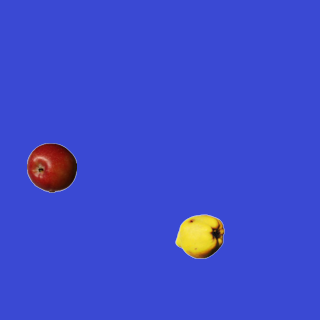Apple Braeburn: (26, 142, 76, 192)
Quince: (174, 211, 224, 261)
